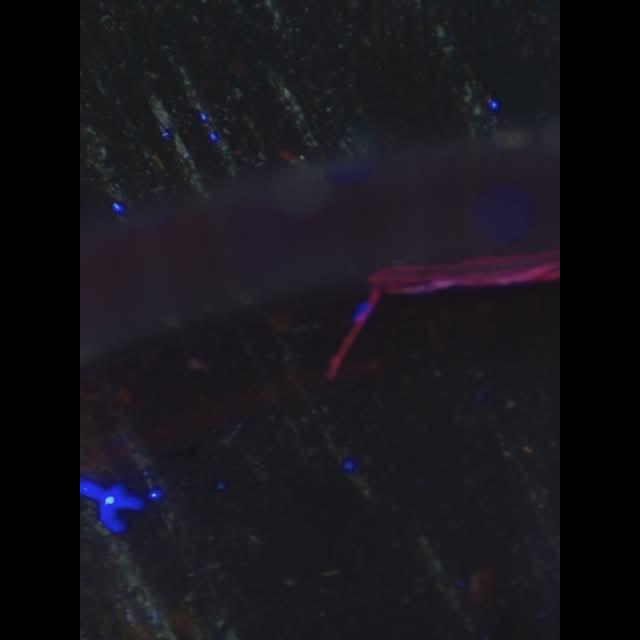Fibre: (324, 286, 380, 380)
